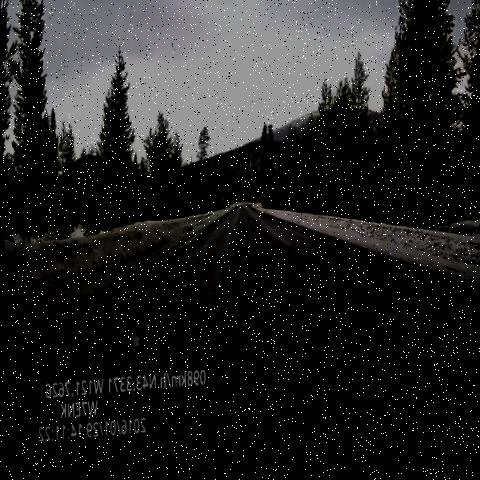pothole: (347, 304, 421, 392), (107, 303, 164, 365), (173, 282, 196, 299), (250, 218, 268, 236), (186, 263, 204, 280), (280, 242, 296, 259)
